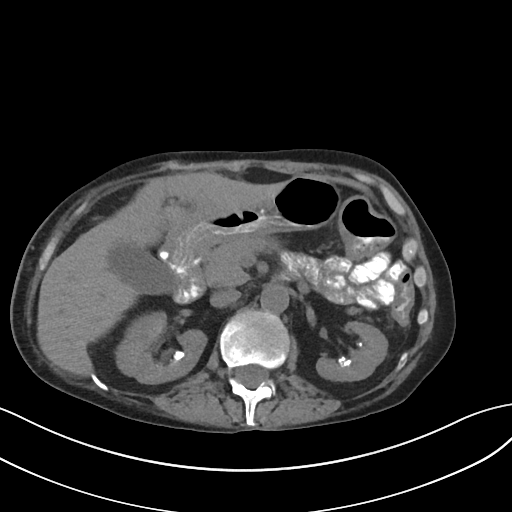Lesion: (173, 347, 187, 361)
